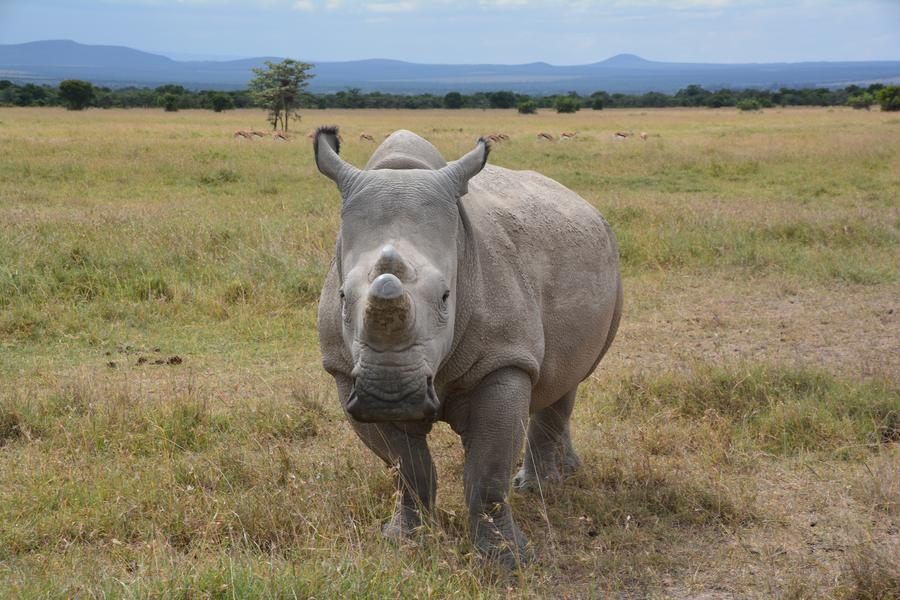rhino: (294, 117, 610, 487)
